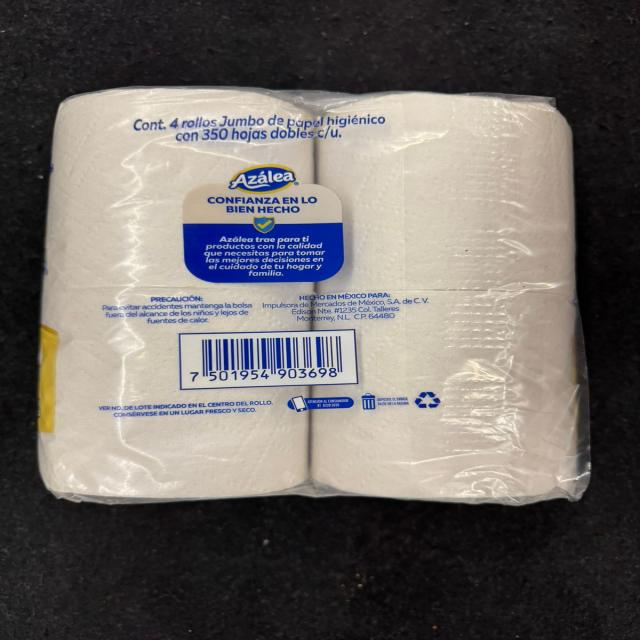PAPEL HIGIENICO AZALEA 4 ROLLOS 350 HOJAS: (31, 86, 602, 510)
